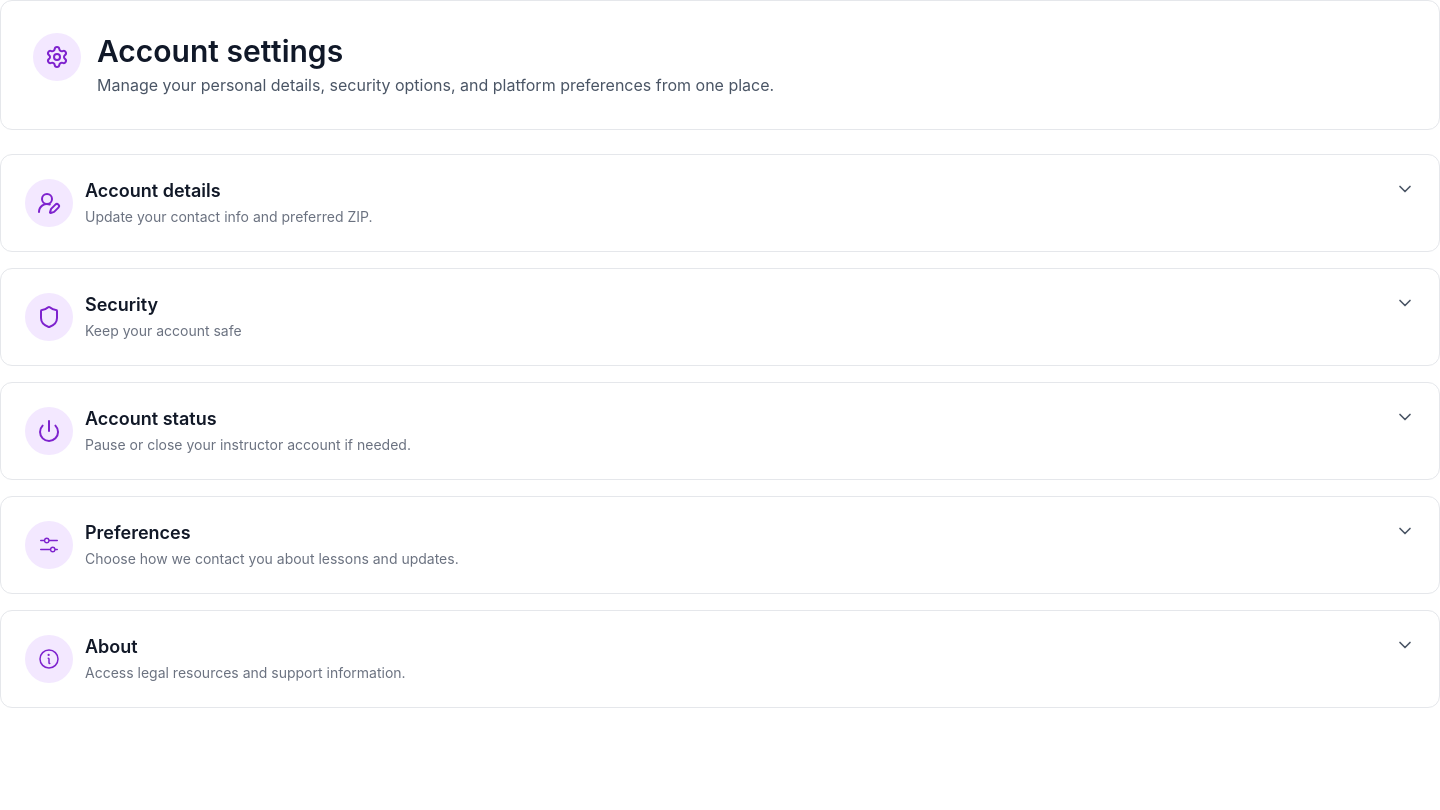
Test case: SettingsImpl › renders trusted devices in the Security section
What coordinates should you click on to do the following:
click the button "Security Keep your account safe"
I would click on:
 (49, 317)
Its box is [25,293,1415,341].
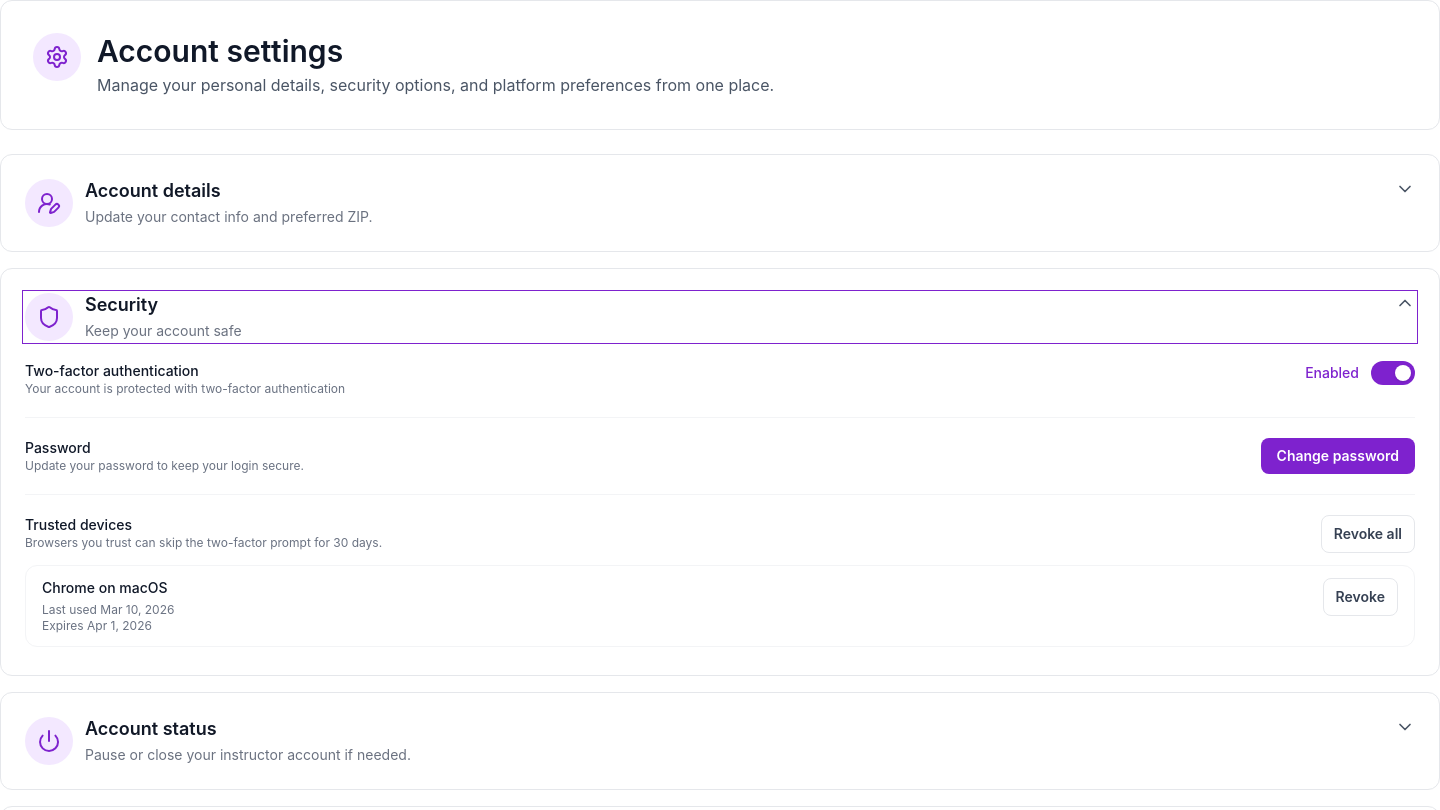
Now the text "Trusted devices" is shown, box [25,516,132,533]
Now the text "Chrome on macOS" is shown, box [42,578,174,598]
Now the button "Revoke" is shown, box [1323,578,1398,616]
